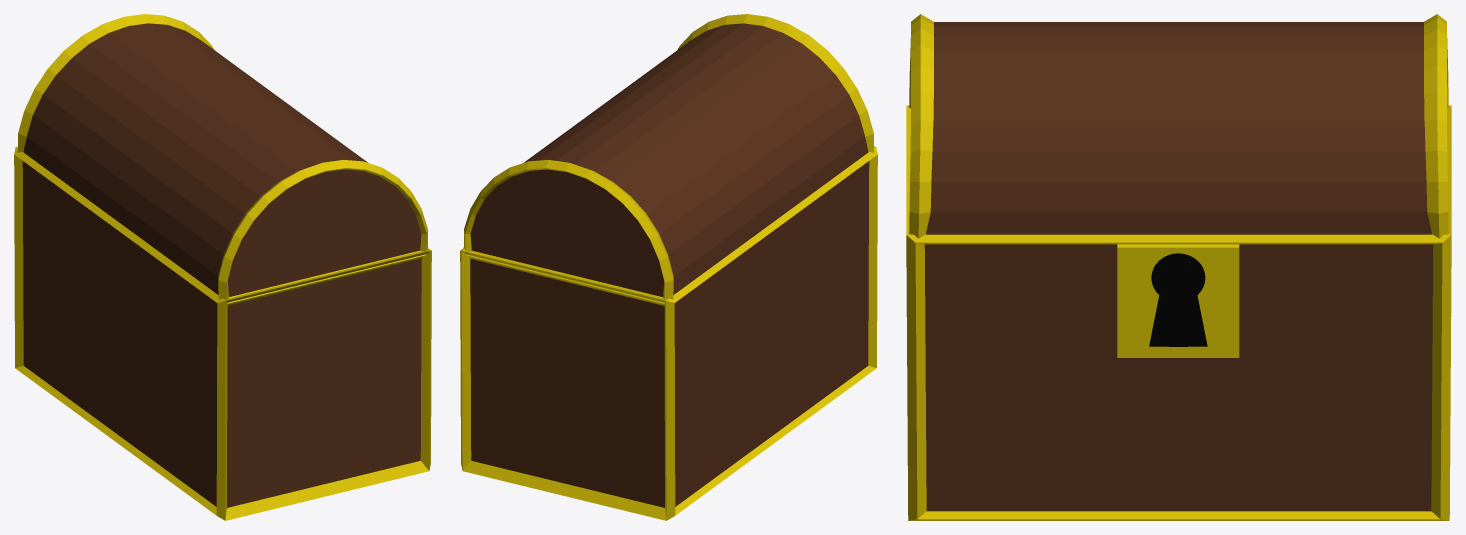
The picture shows the model from 3 angles, left to right: view 1: azimuth 30°, elevation 25°; view 2: azimuth 150°, elevation 25°; view 3: azimuth 270°, elevation 25°; orthographic projection. The views are drawn at different scales.
Visible parts, largest first — view 1: 立方体, 立方体.002; view 2: 立方体, 立方体.002; view 3: 立方体, 立方体.002, 立方体.001, 円.
Boxes of the visible parts, box(x1,y1,x2,y2) form: 立方体: box(22, 23, 421, 507); 立方体.002: box(14, 14, 431, 520); 立方体: box(470, 23, 869, 507); 立方体.002: box(460, 14, 877, 520); 立方体: box(924, 22, 1433, 511); 立方体.002: box(906, 14, 1451, 520); 立方体.001: box(1117, 244, 1239, 357); 円: box(1149, 253, 1207, 346).
Bounding box in the file's own units: 530 × 774 × 894.
